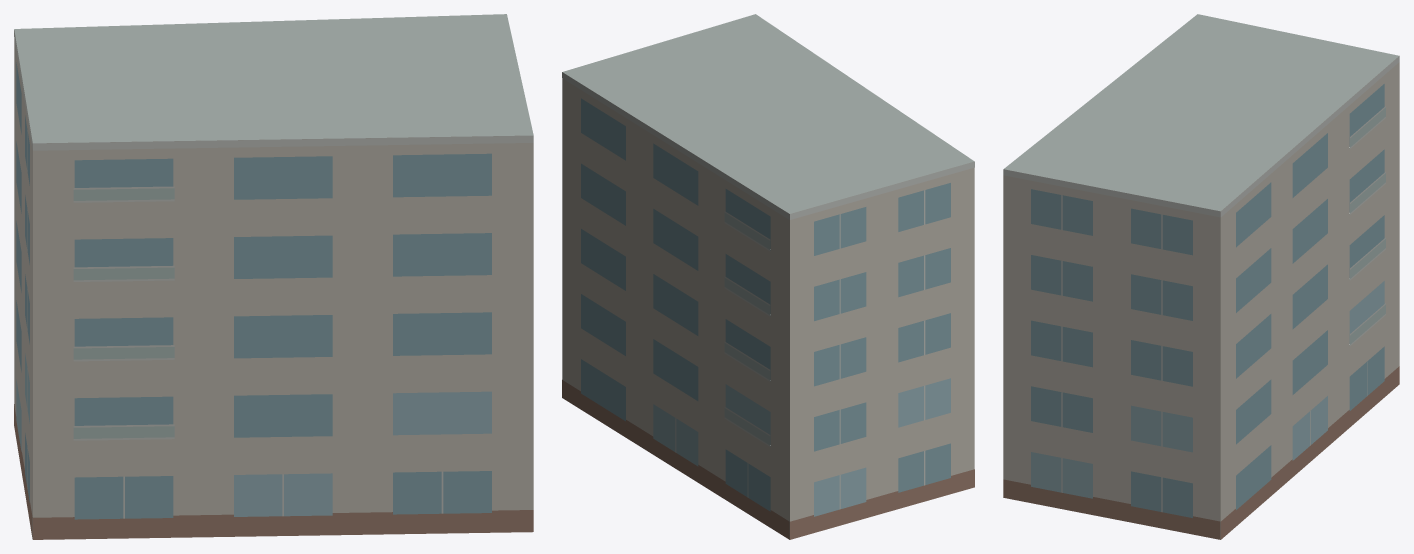
File: survey-upis-32962188.glb
3 renders of one model, left to right at view 1: azimuth 30°, elevation 25°; view 2: azimuth 150°, elevation 25°; view 3: azimuth 270°, elevation 25°, orthographic. The views are drawn at different scales.
Parts seen in each view (by area): view 1: survey-upis-32962188.tmp; view 2: survey-upis-32962188.tmp; view 3: survey-upis-32962188.tmp.
Part boxes in pixels (x1=…): survey-upis-32962188.tmp: x1=14, y1=14, x2=533, y2=539; survey-upis-32962188.tmp: x1=562, y1=14, x2=974, y2=539; survey-upis-32962188.tmp: x1=1003, y1=14, x2=1399, y2=539.
Size of the model in its own units: 16.88 by 13.1 by 14.32.
